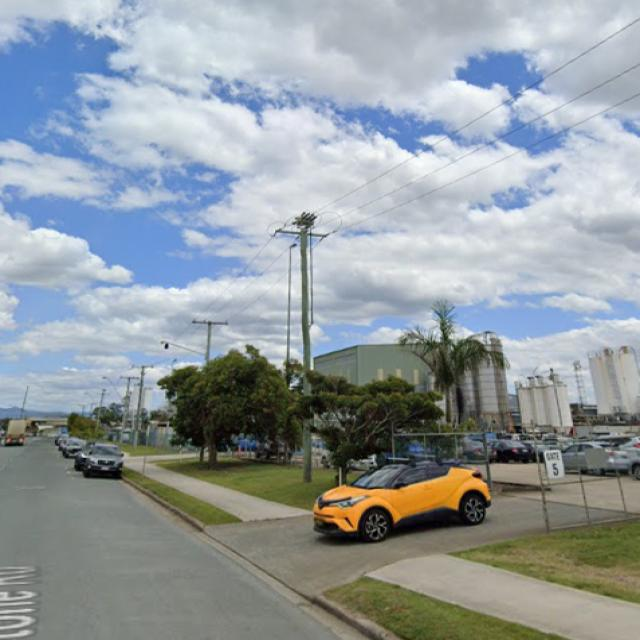HV-switch: (291, 211, 318, 229)
HV-transmission: (271, 229, 337, 242)
crossarm: (275, 230, 327, 238), (191, 320, 228, 325), (120, 376, 139, 379), (130, 366, 154, 368)
streetlight: (160, 340, 206, 356), (102, 376, 125, 407)
timber-pole: (300, 228, 312, 483), (198, 321, 212, 465), (134, 365, 144, 450), (119, 377, 130, 445)
